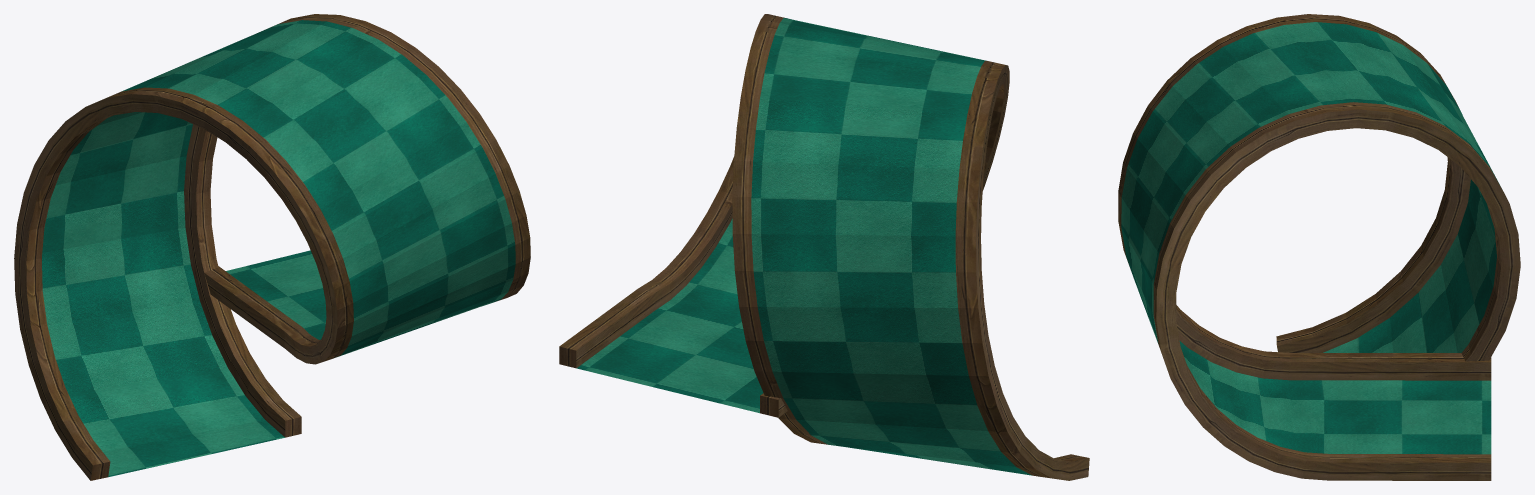
File: PartSmall2Coaster_border.gltf
3 views of the same model, side by side, from view 1: azimuth 30°, elevation 25°; view 2: azimuth 150°, elevation 25°; view 3: azimuth 270°, elevation 25° (orthographic). The views are drawn at different scales.
Visible parts, largest first — view 1: PartSmall2Coaster_border_glb; view 2: PartSmall2Coaster_border_glb; view 3: PartSmall2Coaster_border_glb.
Boxes of the visible parts, x1=… form: PartSmall2Coaster_border_glb: x1=14, y1=14, x2=530, y2=480; PartSmall2Coaster_border_glb: x1=559, y1=14, x2=1089, y2=480; PartSmall2Coaster_border_glb: x1=1118, y1=14, x2=1520, y2=480.
Size of what is drawn, in the model's own units: 6.26 by 5.48 by 4.99.
Materials: 2 (2 with a texture image).
